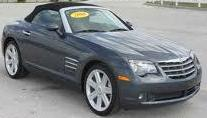front_view: (116, 47, 204, 108)
headlight: (120, 57, 160, 80)
side_glass: (19, 5, 72, 38)
